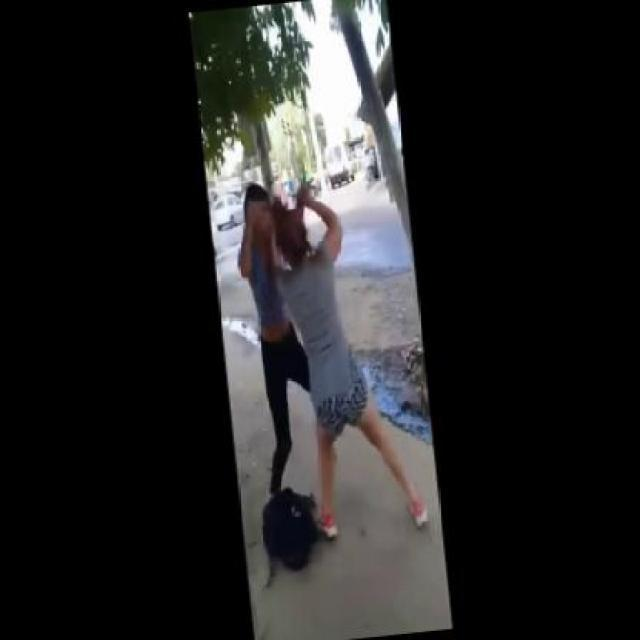fight: (228, 167, 372, 436)
